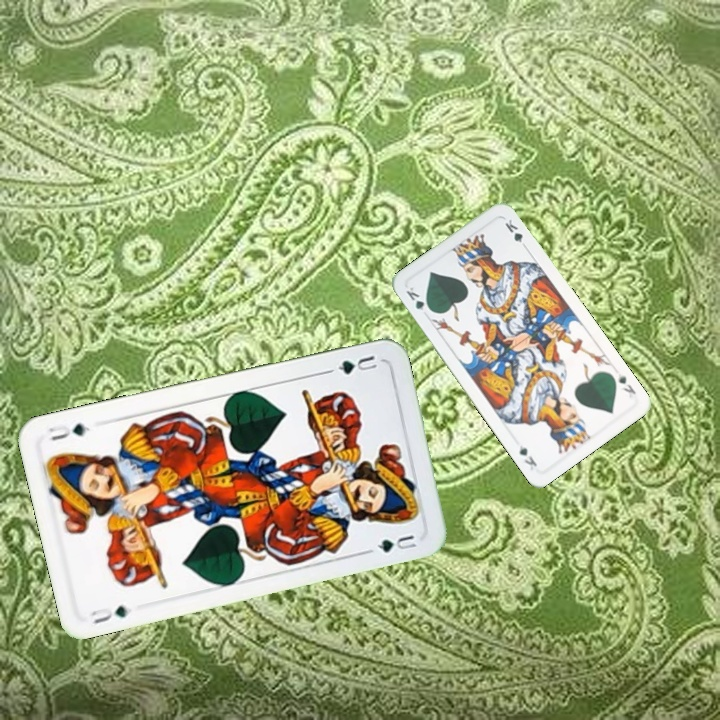GK: (402, 282, 435, 315), (614, 369, 639, 401)
GU: (324, 351, 382, 377), (85, 601, 129, 627)
